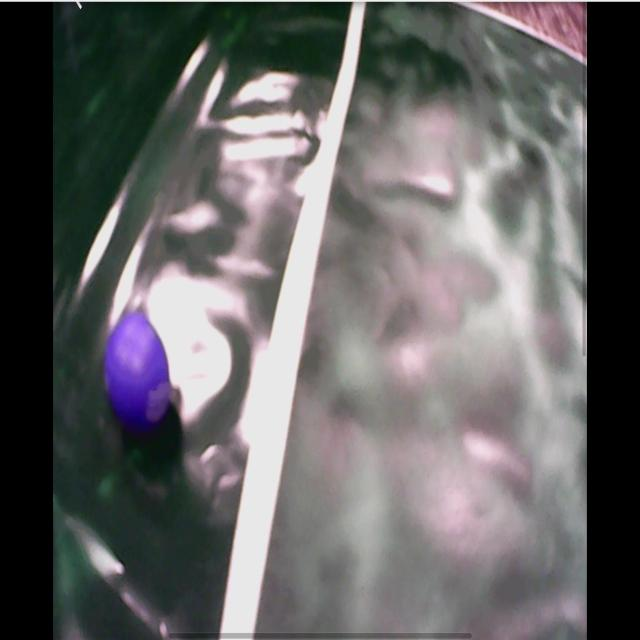ball: (100, 317, 173, 418)
